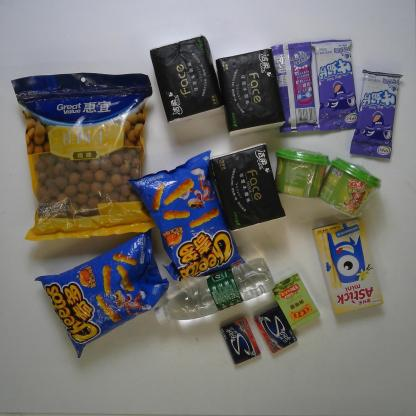Candy: (350, 70, 403, 160), (310, 40, 362, 130), (271, 42, 319, 132), (271, 274, 320, 330)
Dessert: (312, 216, 384, 315)
Dried Food: (10, 74, 156, 242)
Drink: (155, 258, 276, 326)
Gum: (254, 304, 298, 353), (220, 318, 261, 364)
Instant Drink: (318, 157, 382, 218), (274, 147, 331, 199)
Puffed Food: (34, 227, 170, 358), (128, 150, 246, 282)
Tissue: (149, 35, 226, 125), (209, 143, 286, 231), (216, 48, 286, 136)
